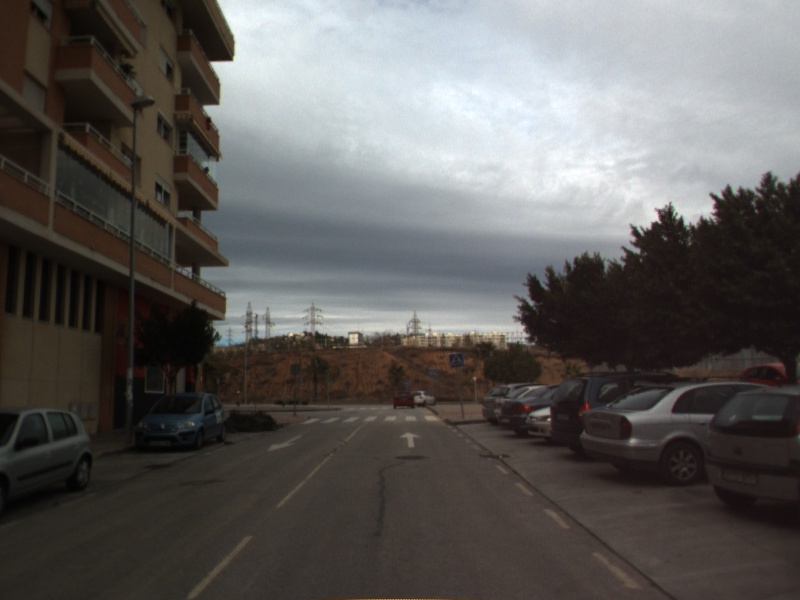STRAIGHT: (398, 430, 423, 450)
